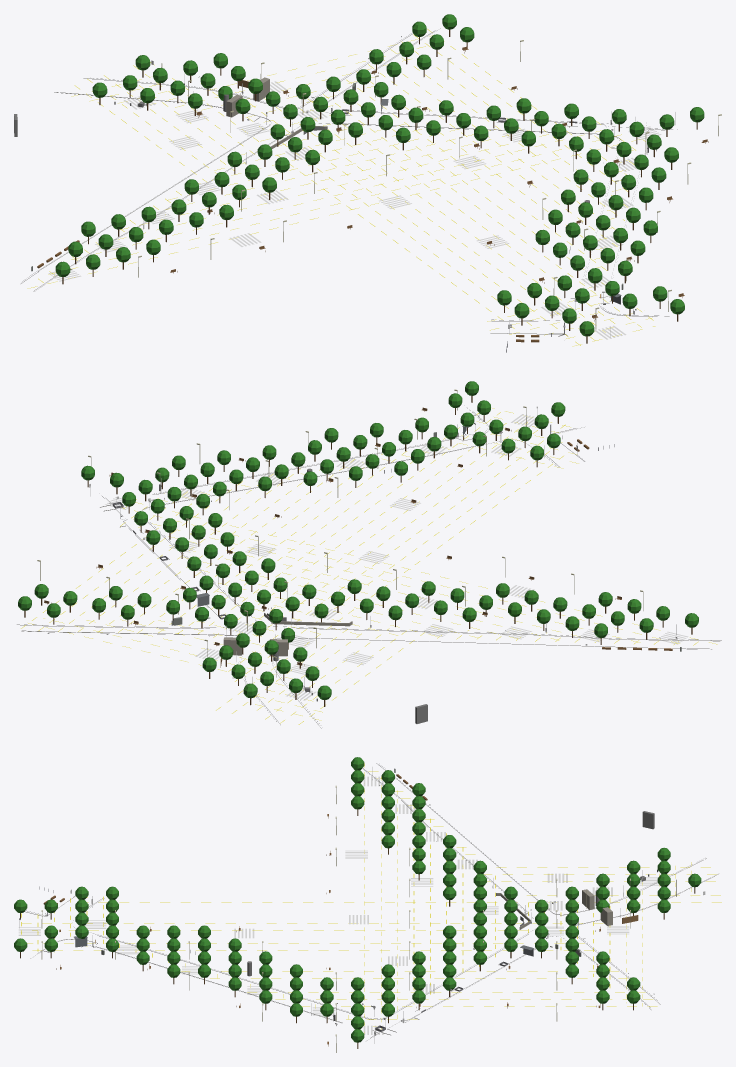
File: ingolstadt_10_infrastructure_LOD3.obj
The picture shows the model from 3 angles, top to bottom: view 1: azimuth 30°, elevation 25°; view 2: azimuth 150°, elevation 25°; view 3: azimuth 270°, elevation 25°; orthographic projection. The views are drawn at different scales.
Size of the model in its own units: 169 by 5.2 by 173.
